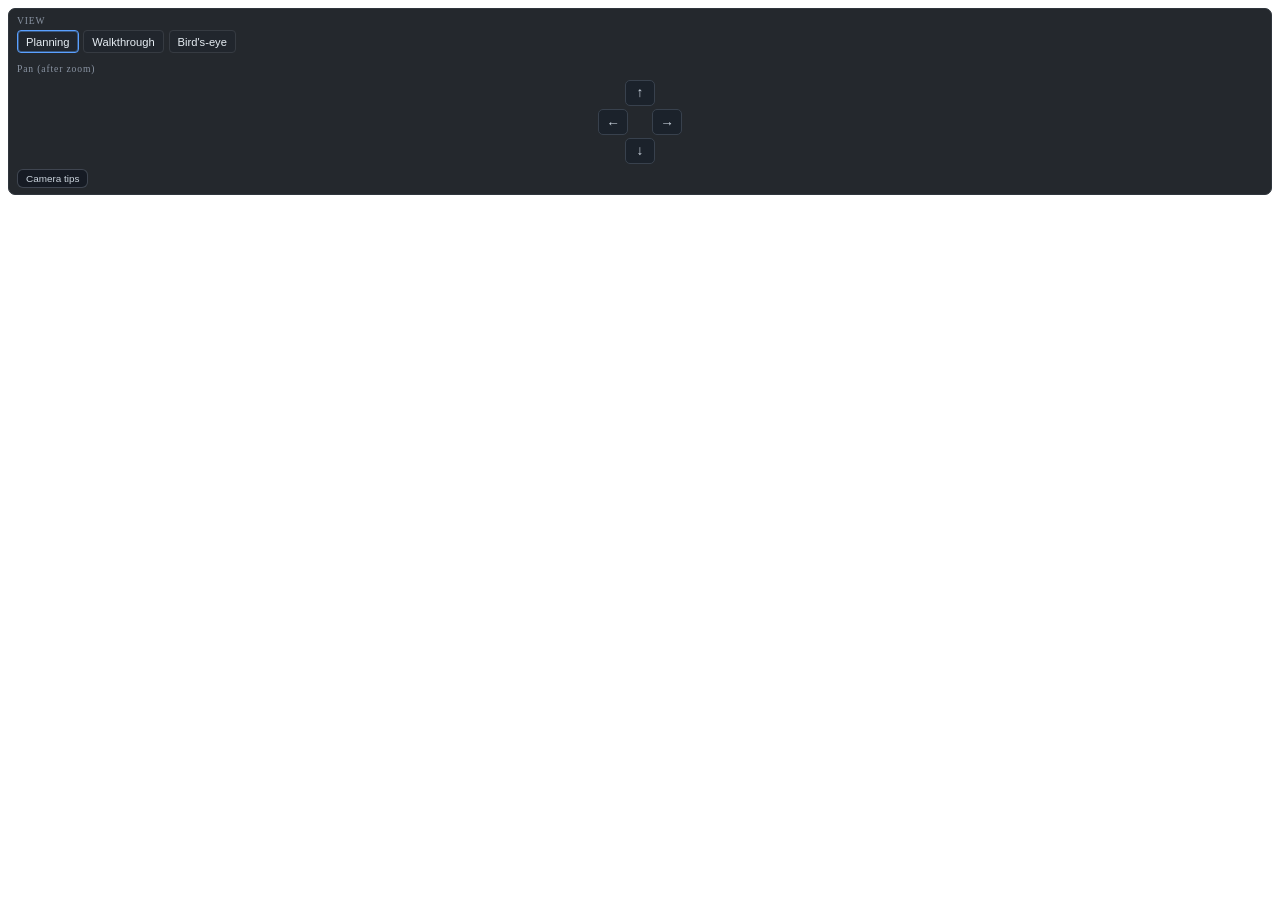
Test: Build 1A walkthrough §15 — dismissible controls pane › the pane can be reopened via the Controls affordance
Click the button "Walkthrough" at x=124, y=42, box [83, 30, 164, 53]
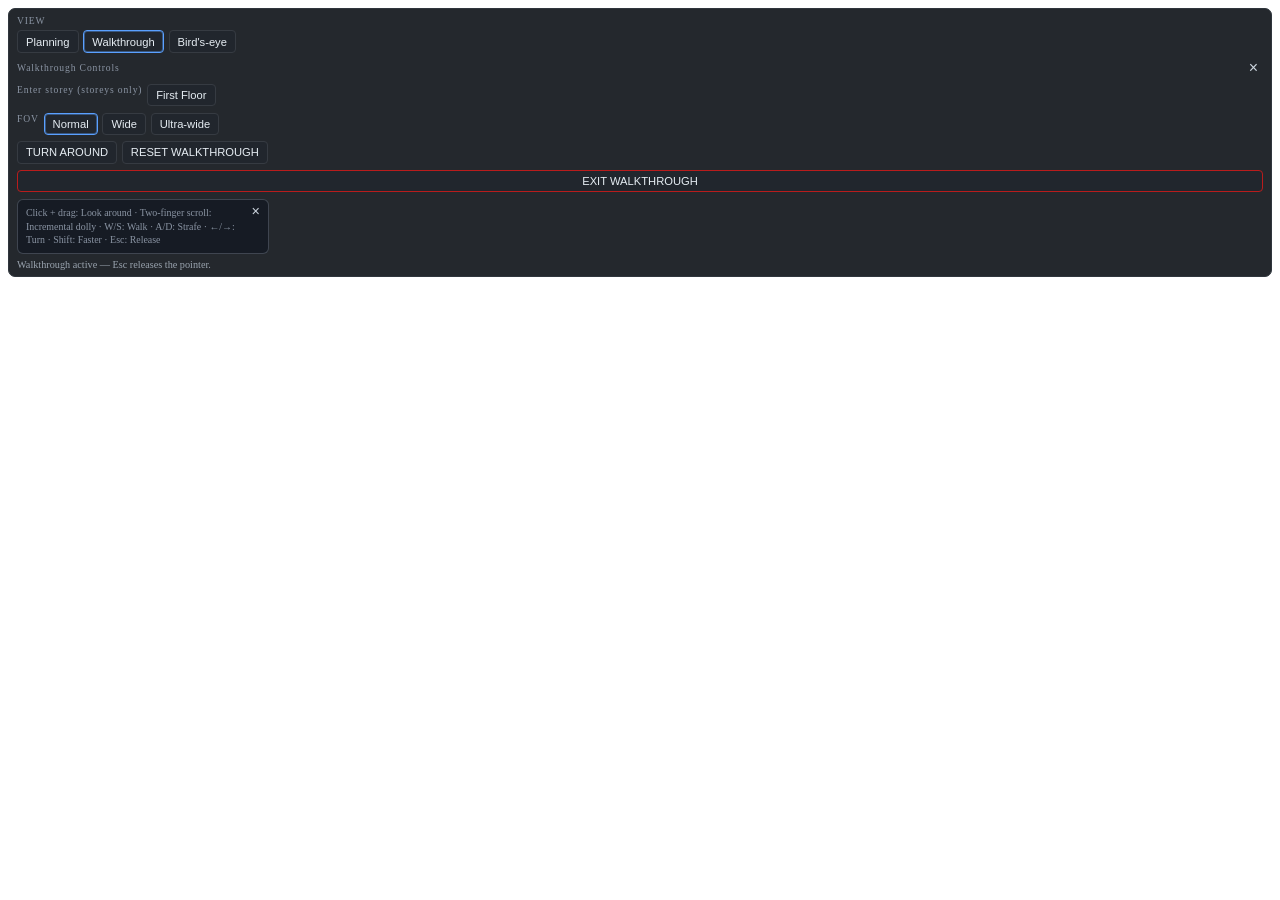
Check: the text "Click + drag: Look around" is shown, box [26, 207, 235, 246]
Click the button named "Close controls" at x=256, y=211, box [248, 202, 264, 220]
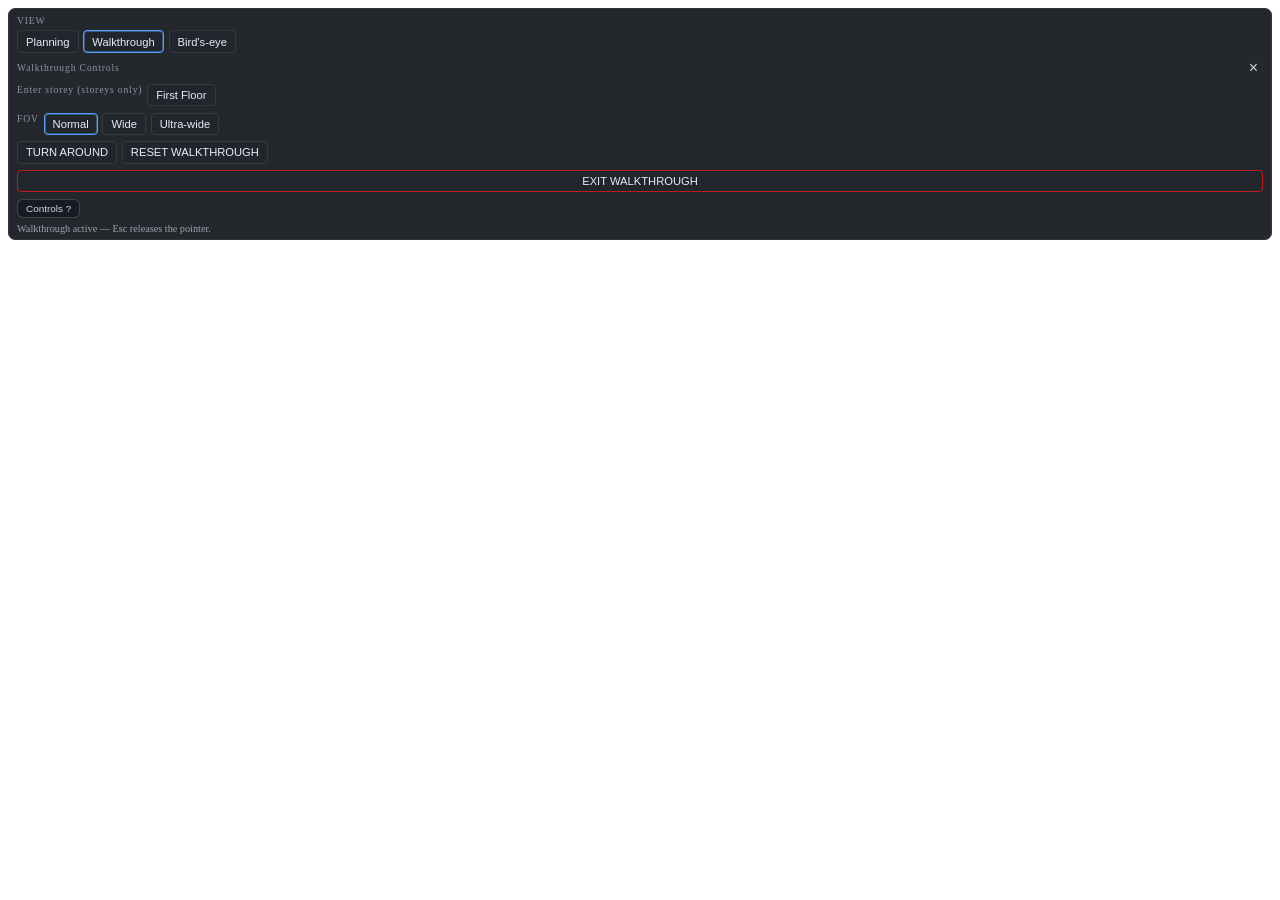
Check: the text "Click + drag: Look around" is gone
Click the button with aria-label "Show walkthrough key controls" at x=49, y=208, box [17, 199, 80, 218]
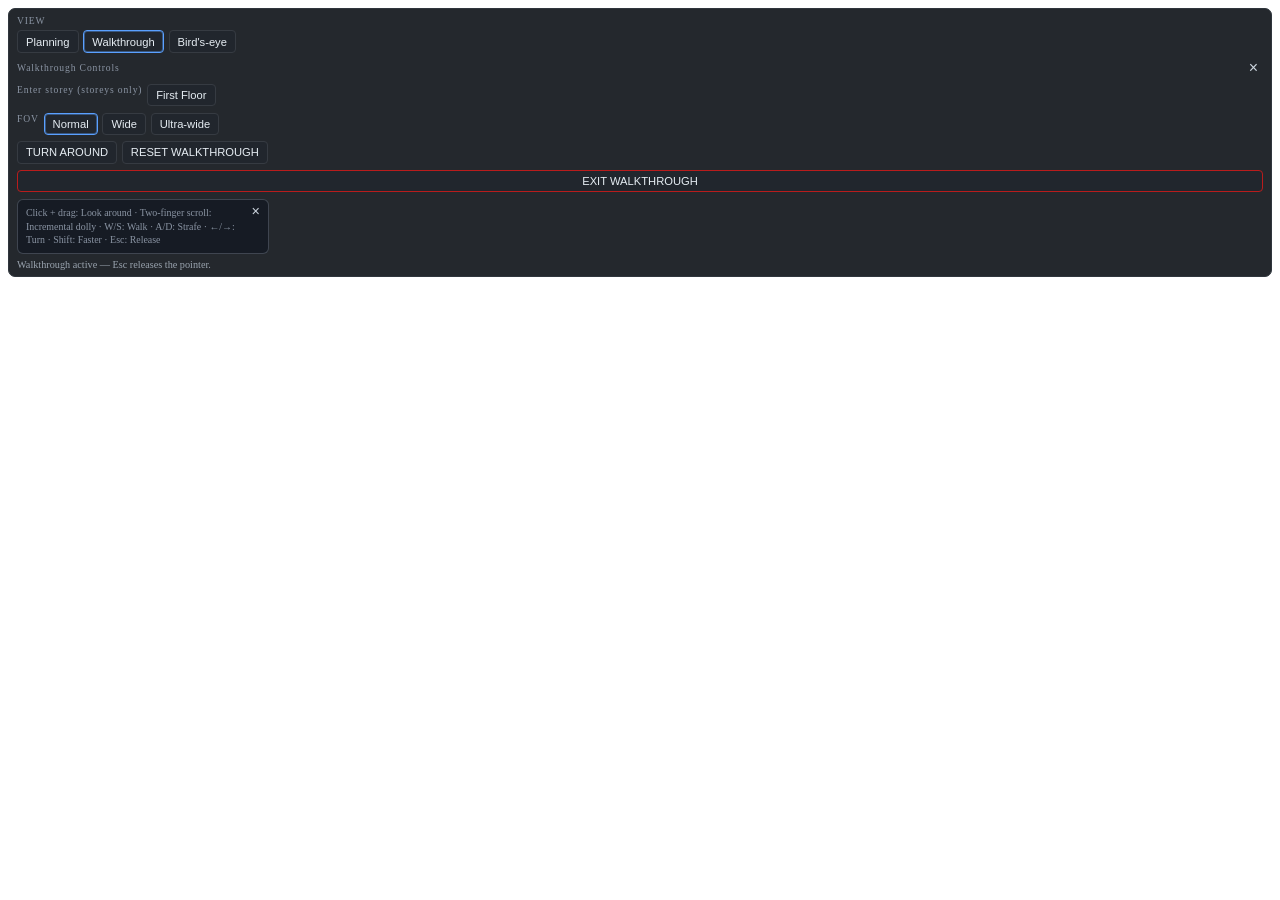
Check: the text "Click + drag: Look around" is shown, box [26, 207, 235, 246]
